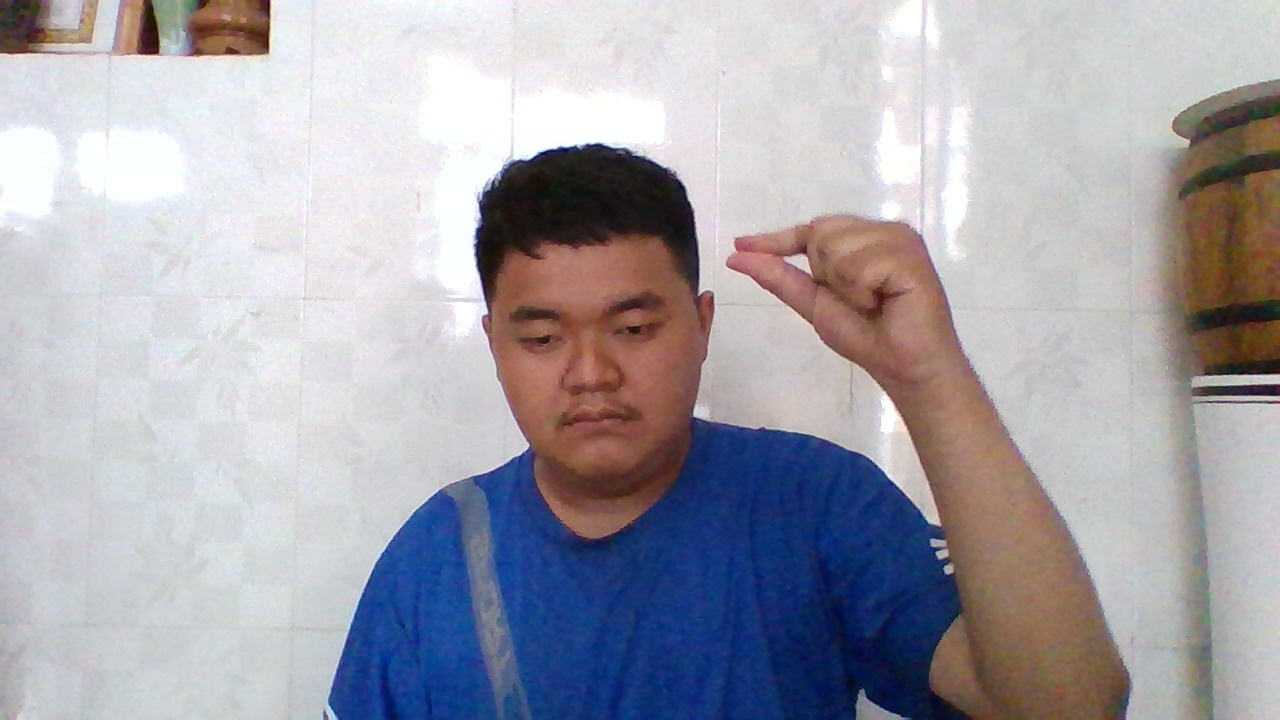S: (726, 212, 929, 380)
